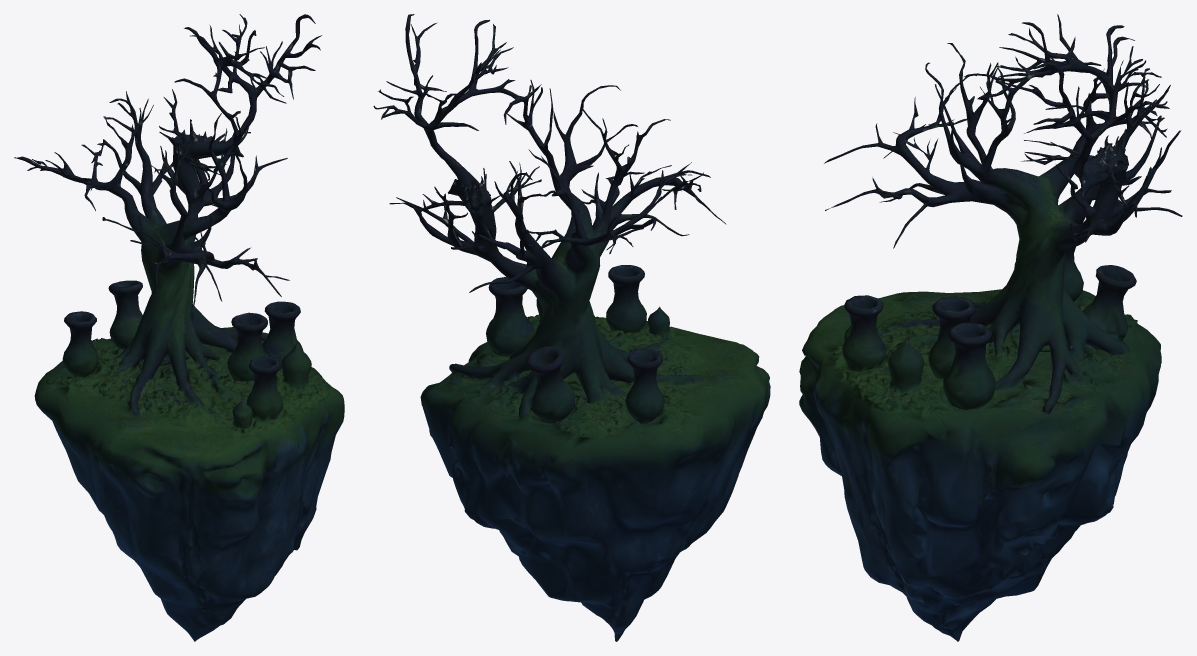
The model's file is floating-island.glb.
3 views of the same model, side by side, from view 1: azimuth 30°, elevation 25°; view 2: azimuth 150°, elevation 25°; view 3: azimuth 270°, elevation 25° (orthographic). The views are drawn at different scales.
Size of the model in its own units: 0.9603 by 1.9 by 0.9819.
1 material, 1 textured.
